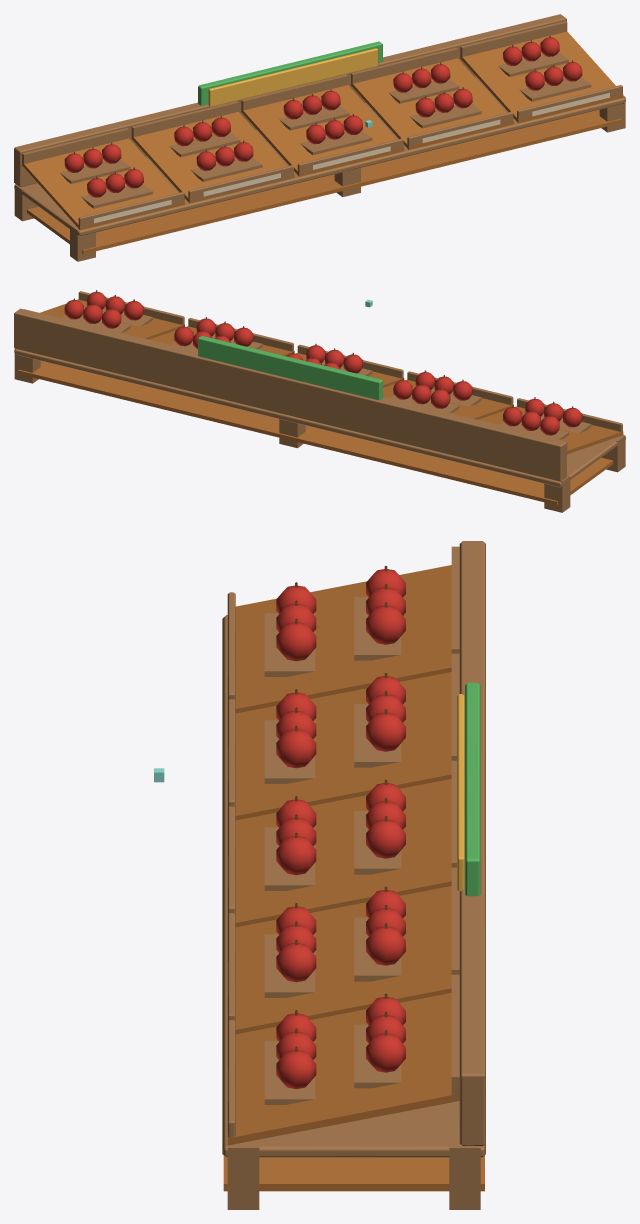
File: CM_Fixture_ProduceStand.fbx
The picture shows the model from 3 angles, top to bottom: view 1: azimuth 30°, elevation 25°; view 2: azimuth 150°, elevation 25°; view 3: azimuth 270°, elevation 25°; orthographic projection. The views are drawn at different scales.
Visible parts, largest first — view 1: Body, PriceTag, Item2, Item5, Item1, Item4, Item3, Item7, Item8, Item6, Item9, Item10; view 2: Body, Item7, Item10, Item6, Item2, Item1, Item5, Item4, Item3, Item9; view 3: Body, Item5, Item4, Item3, Item2, Item1, Item10, Item9, Item6, Item7, Item8, PriceTag.
Boxes of the visible parts, bbox=[...] form: Body: bbox=[14, 14, 625, 261]; PriceTag: bbox=[208, 48, 378, 106]; Item2: bbox=[191, 140, 262, 181]; Item5: bbox=[519, 60, 591, 101]; Item1: bbox=[81, 167, 152, 208]; Item4: bbox=[410, 87, 481, 128]; Item3: bbox=[300, 114, 372, 154]; Item7: bbox=[169, 116, 240, 157]; Item8: bbox=[279, 89, 349, 130]; Item6: bbox=[60, 142, 130, 183]; Item9: bbox=[388, 62, 459, 103]; Item10: bbox=[498, 36, 568, 76]; Body: bbox=[14, 291, 625, 512]; Item7: bbox=[390, 378, 459, 412]; Item10: bbox=[61, 298, 130, 332]; Item6: bbox=[500, 405, 568, 439]; Item2: bbox=[412, 370, 481, 406]; Item1: bbox=[525, 397, 591, 433]; Item5: bbox=[87, 290, 152, 326]; Item4: bbox=[196, 317, 262, 349]; Item3: bbox=[306, 344, 372, 376]; Item9: bbox=[171, 325, 230, 351]; Body: bbox=[222, 541, 485, 1209]; Item5: bbox=[264, 1010, 316, 1104]; Item4: bbox=[264, 903, 316, 997]; Item3: bbox=[264, 796, 316, 890]; Item2: bbox=[264, 689, 316, 783]; Item1: bbox=[264, 582, 316, 676]; Item10: bbox=[354, 993, 405, 1088]; Item9: bbox=[354, 886, 405, 981]; Item6: bbox=[354, 565, 405, 660]; Item7: bbox=[354, 672, 405, 767]; Item8: bbox=[354, 779, 405, 874]; PriceTag: bbox=[457, 694, 464, 891].
Bounding box in the file's own units: 24 × 6.3 × 3.6.
1 material, 1 textured.
